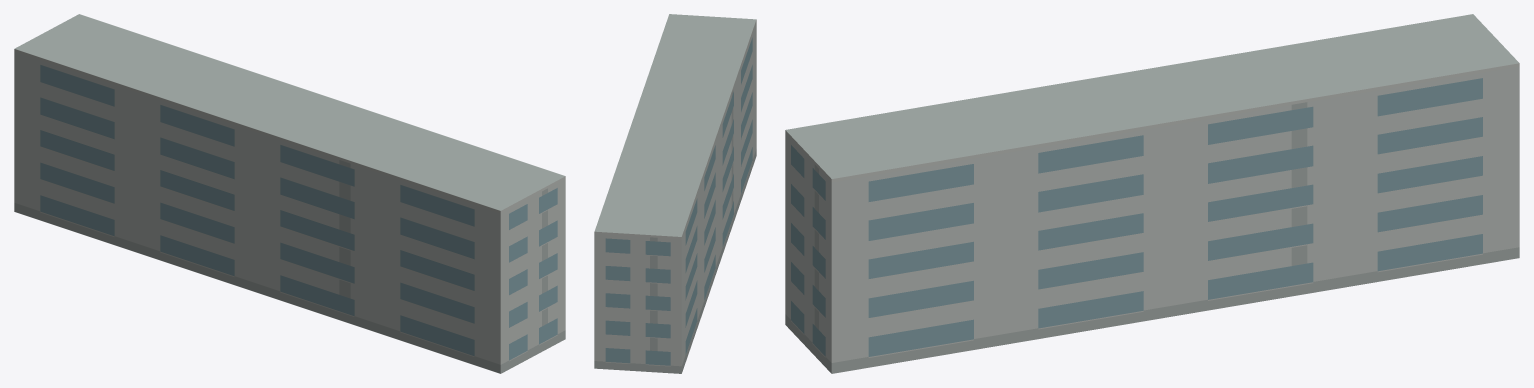
File: residential-0d1e09c1-b139-4234-9d97-6bdbaa6226e8.glb
3 views of the same model, side by side, from view 1: azimuth 30°, elevation 25°; view 2: azimuth 150°, elevation 25°; view 3: azimuth 270°, elevation 25° (orthographic). The views are drawn at different scales.
Visible parts, largest first — view 1: residential-0d1e09c1-b139-4234-9d97-6bdbaa6226e8.tmp; view 2: residential-0d1e09c1-b139-4234-9d97-6bdbaa6226e8.tmp; view 3: residential-0d1e09c1-b139-4234-9d97-6bdbaa6226e8.tmp.
Part boxes in pixels (x1,y1,x2,y2): residential-0d1e09c1-b139-4234-9d97-6bdbaa6226e8.tmp: (14, 14, 565, 373); residential-0d1e09c1-b139-4234-9d97-6bdbaa6226e8.tmp: (594, 14, 756, 373); residential-0d1e09c1-b139-4234-9d97-6bdbaa6226e8.tmp: (785, 14, 1519, 373).
Size of the model in its own units: 27.73 by 15.25 by 52.11.
